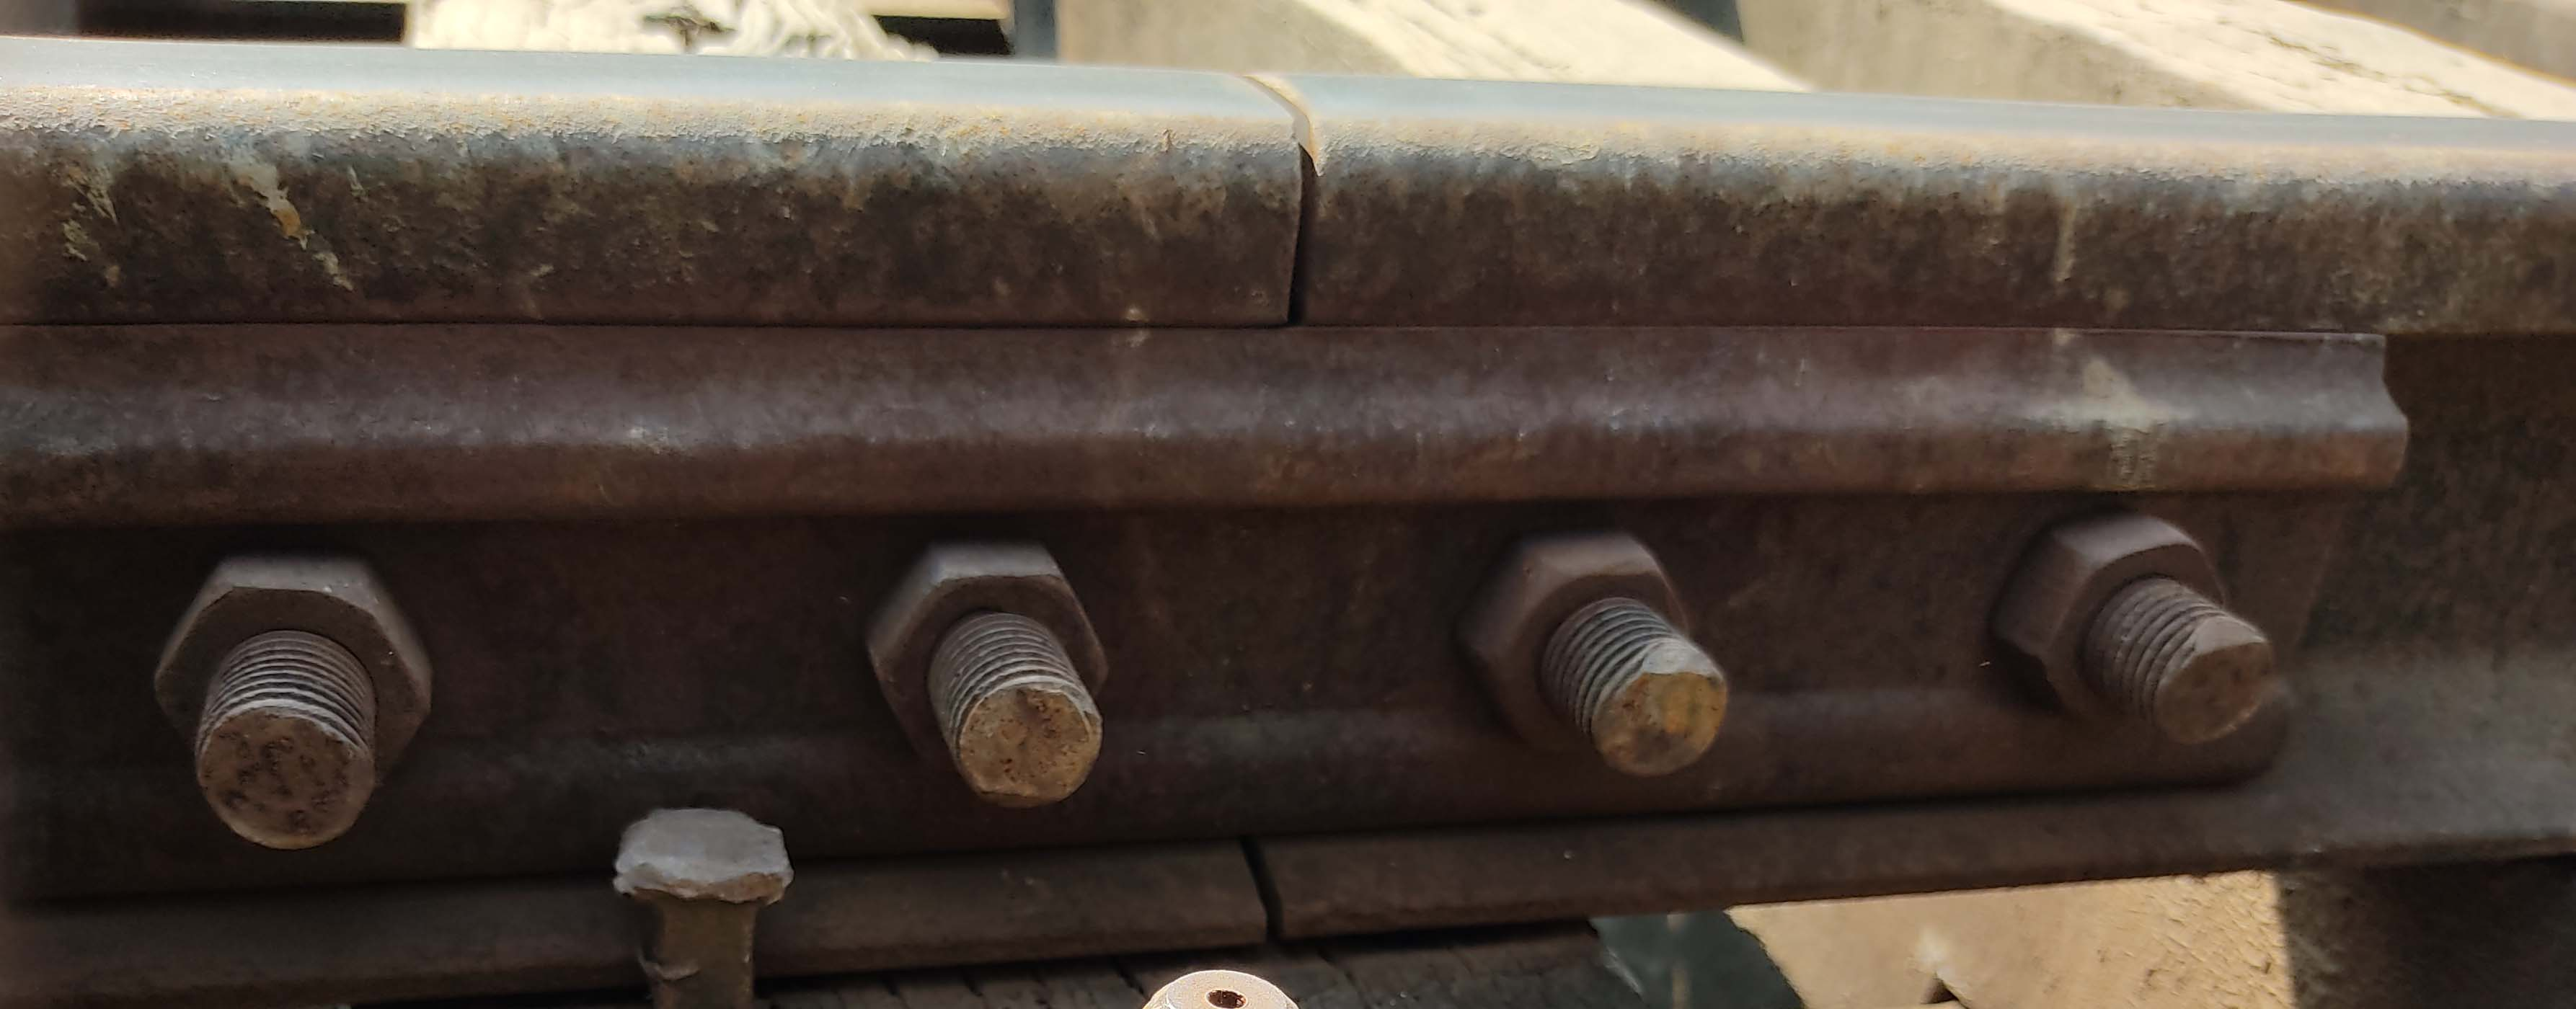error2: (1212, 16, 1391, 381)
